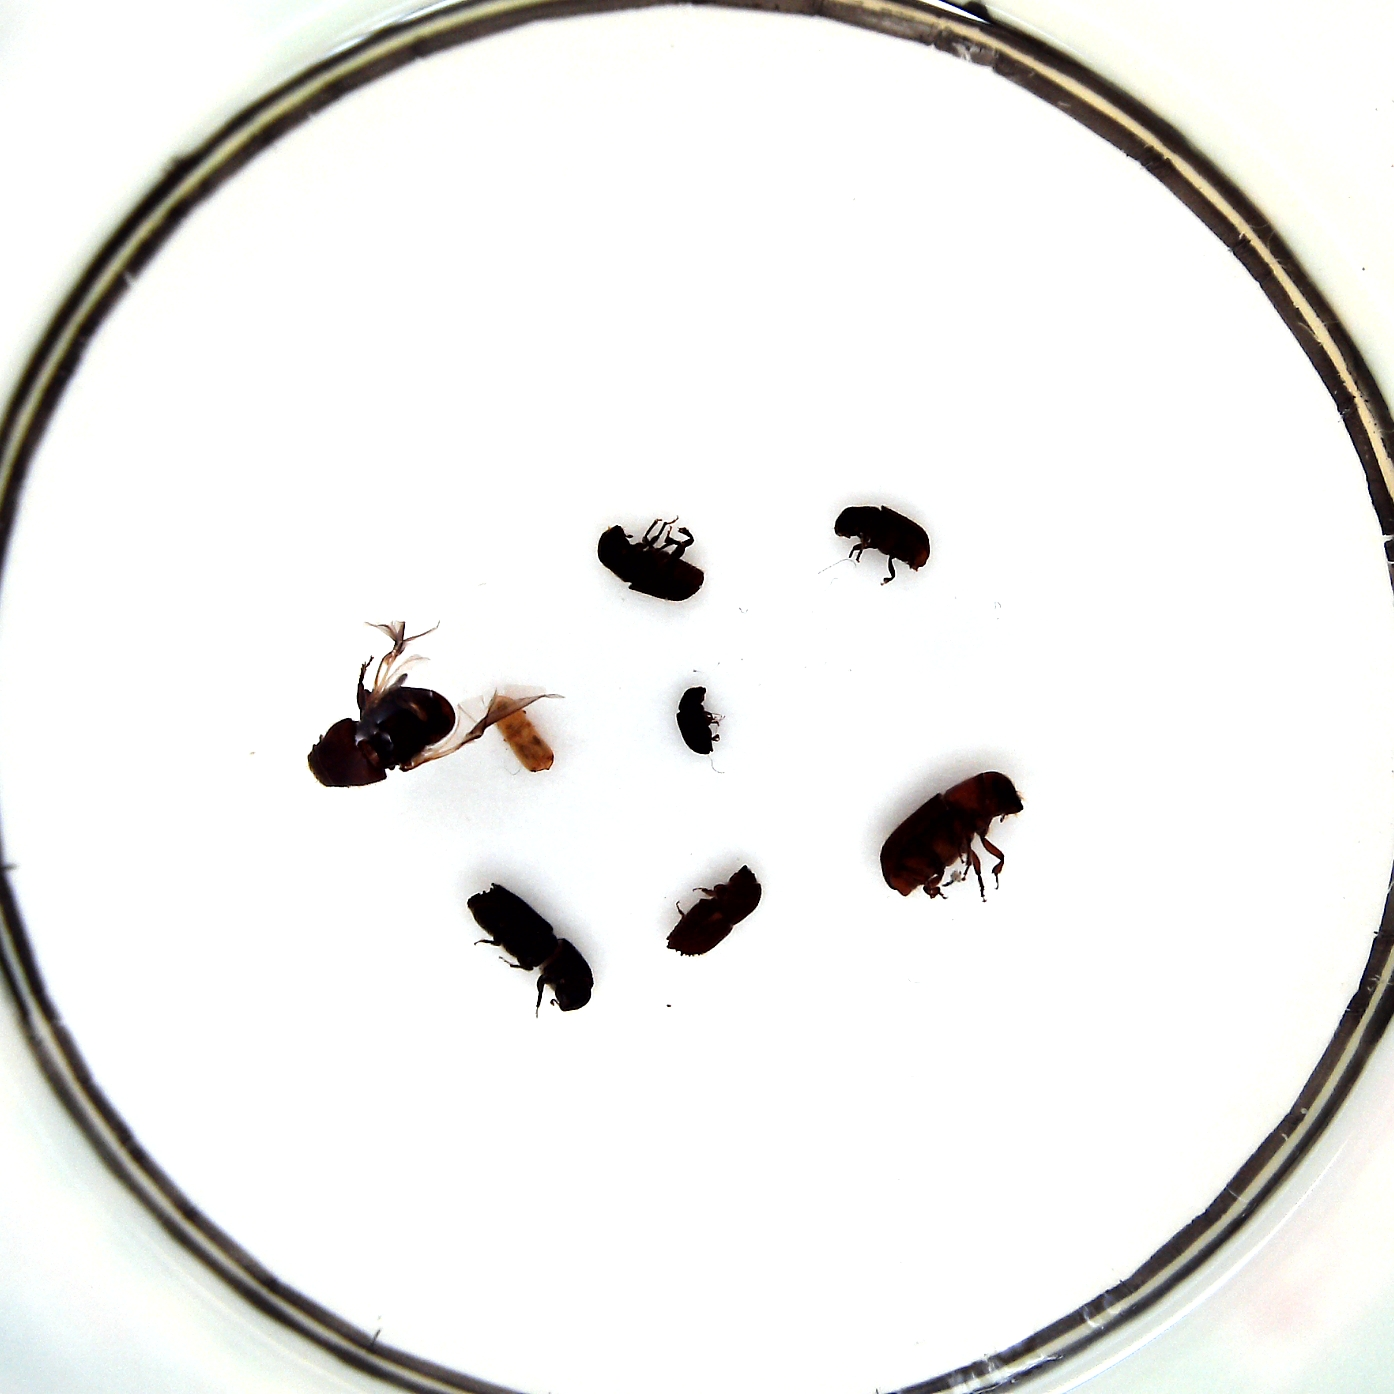Boerner: (465, 883, 595, 1017)
Leconte: (880, 770, 1025, 903), (306, 686, 458, 789)
acuminatus: (677, 686, 723, 756)
armandi: (597, 521, 703, 600), (831, 504, 931, 582)
coleoptera: (486, 694, 555, 774)
linnaeus: (665, 866, 761, 954)
